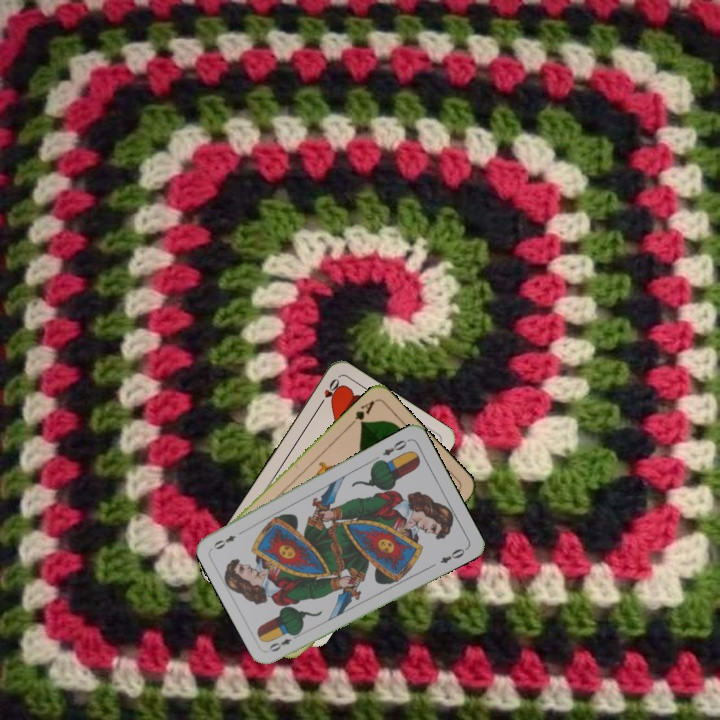EO: (265, 629, 302, 655), (378, 435, 412, 458)
GA: (345, 396, 377, 429)
HO: (314, 374, 343, 410)
